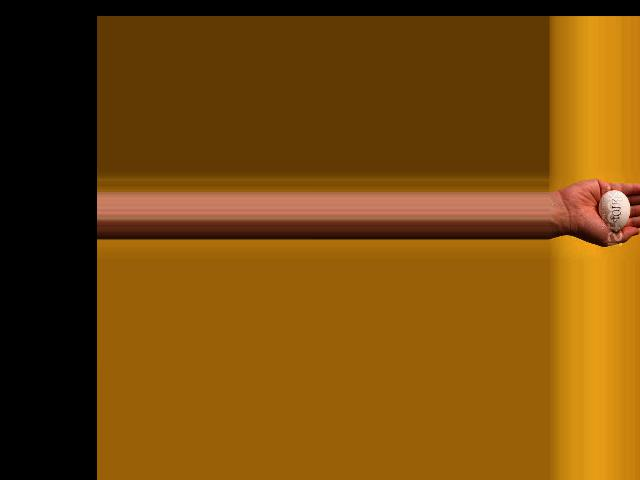egg: (599, 189, 630, 230)
